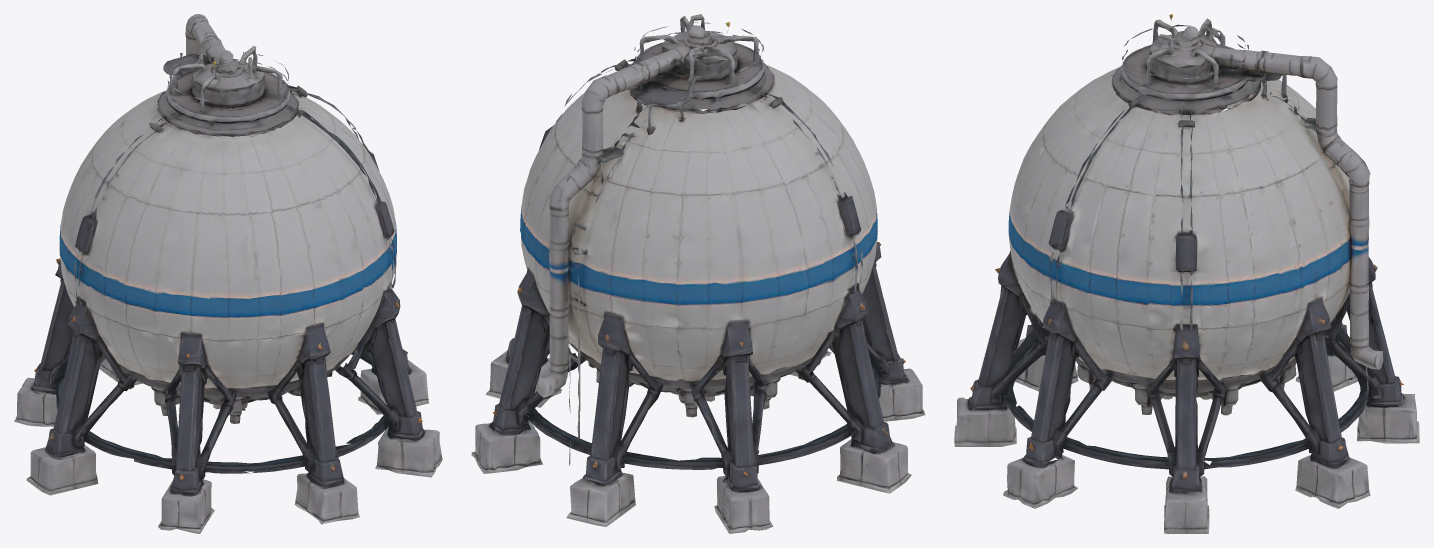
The model's file is sphereTank.glb.
The picture shows the model from 3 angles, left to right: view 1: azimuth 30°, elevation 25°; view 2: azimuth 150°, elevation 25°; view 3: azimuth 270°, elevation 25°; orthographic projection. The views are drawn at different scales.
Parts seen in each view (by area): view 1: sphereTank; view 2: sphereTank; view 3: sphereTank.
Boxes of the visible parts, x1,y1,x2,y2 form: sphereTank: (14, 14, 442, 533); sphereTank: (471, 14, 925, 533); sphereTank: (954, 14, 1419, 533).
Bounding box in the file's own units: 26.5 × 25.84 × 26.55.
1 material, 1 textured.
